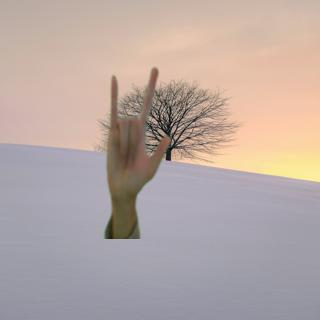ILY: (100, 64, 175, 203)
